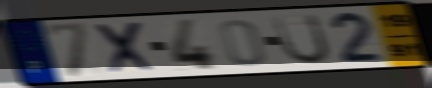0: (218, 17, 268, 68)
2: (328, 10, 388, 65)
4: (170, 17, 219, 72)
7: (43, 21, 93, 80)
U: (270, 12, 333, 67)
X: (92, 20, 161, 76)
